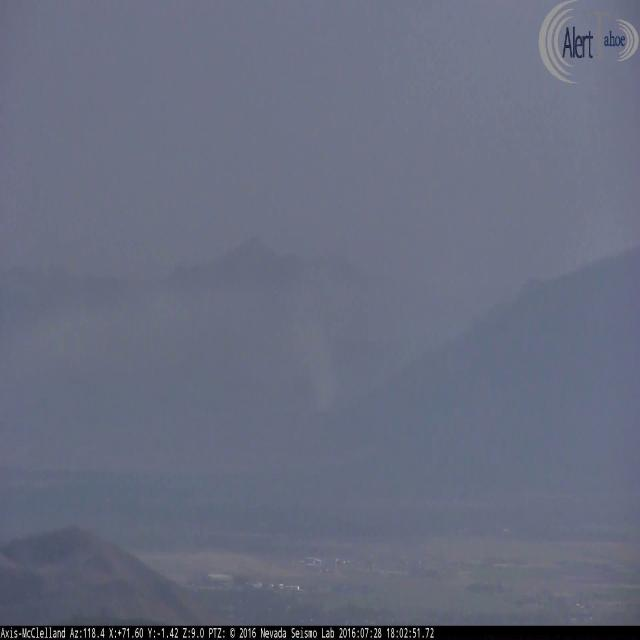smoke: (295, 310, 337, 415)
